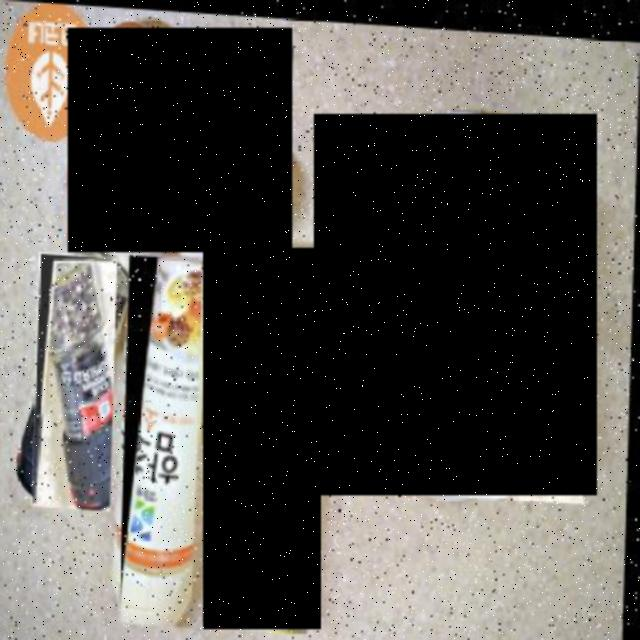Bread: (314, 114, 597, 495)
Egg: (69, 29, 293, 253)
mayonnaise: (203, 248, 320, 629)
